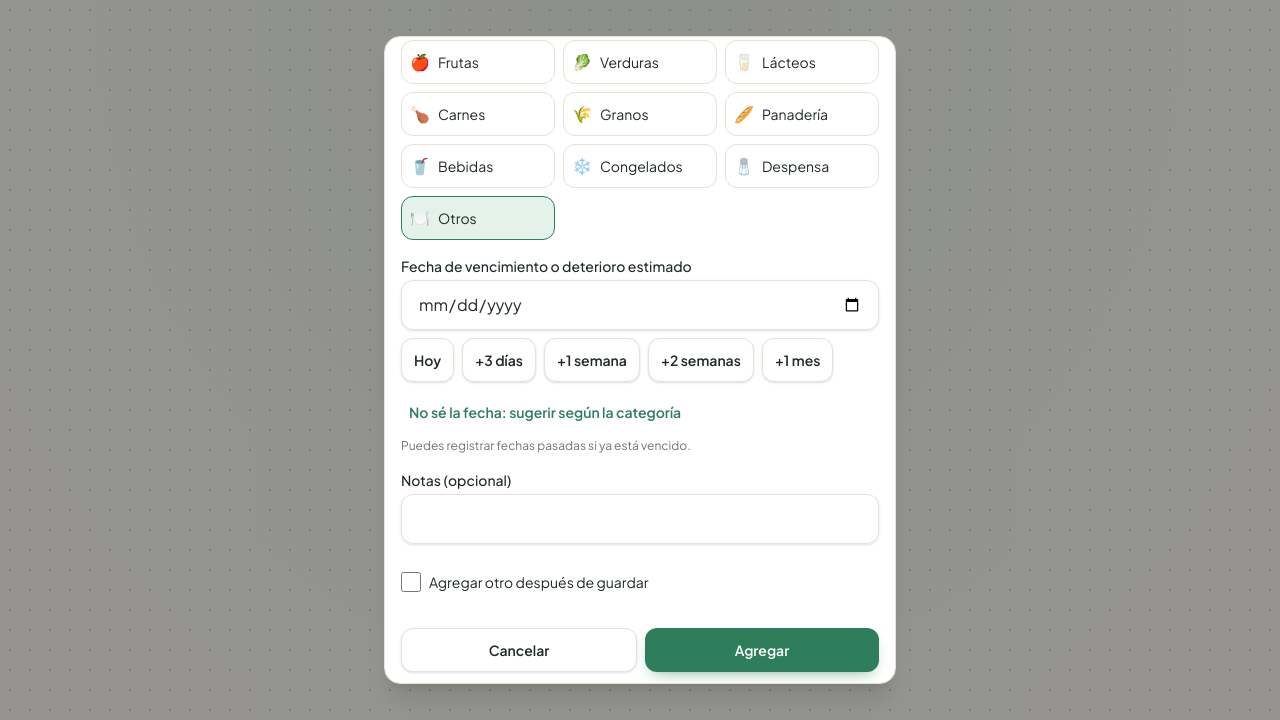
Test case: FoodFormModal (RF-03) › duplicate warning (M3) › warns with how much there is instead of saving
Earlier steps of the test are not shown.
(page scrolled)
Click the button "+1 semana".
click(592, 360)  # box x1=544 y1=338 x2=640 y2=382
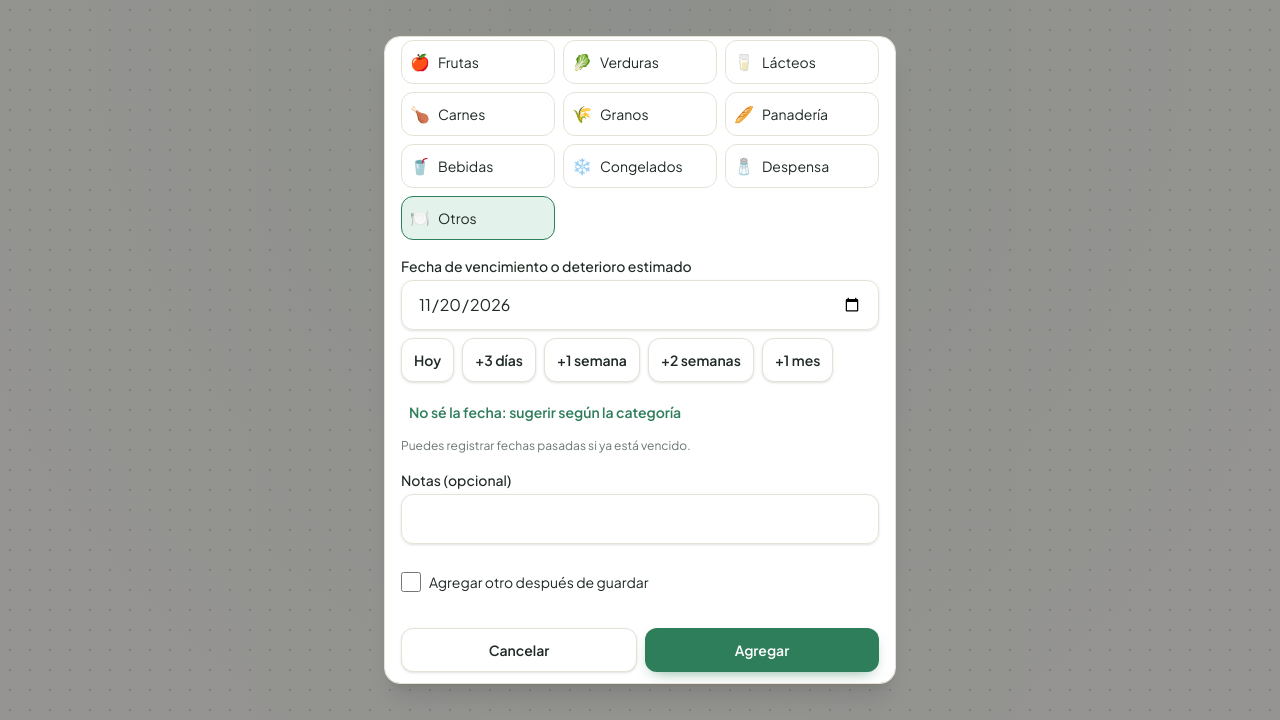
Click the button "Agregar".
click(762, 650)  # box x1=645 y1=628 x2=879 y2=672
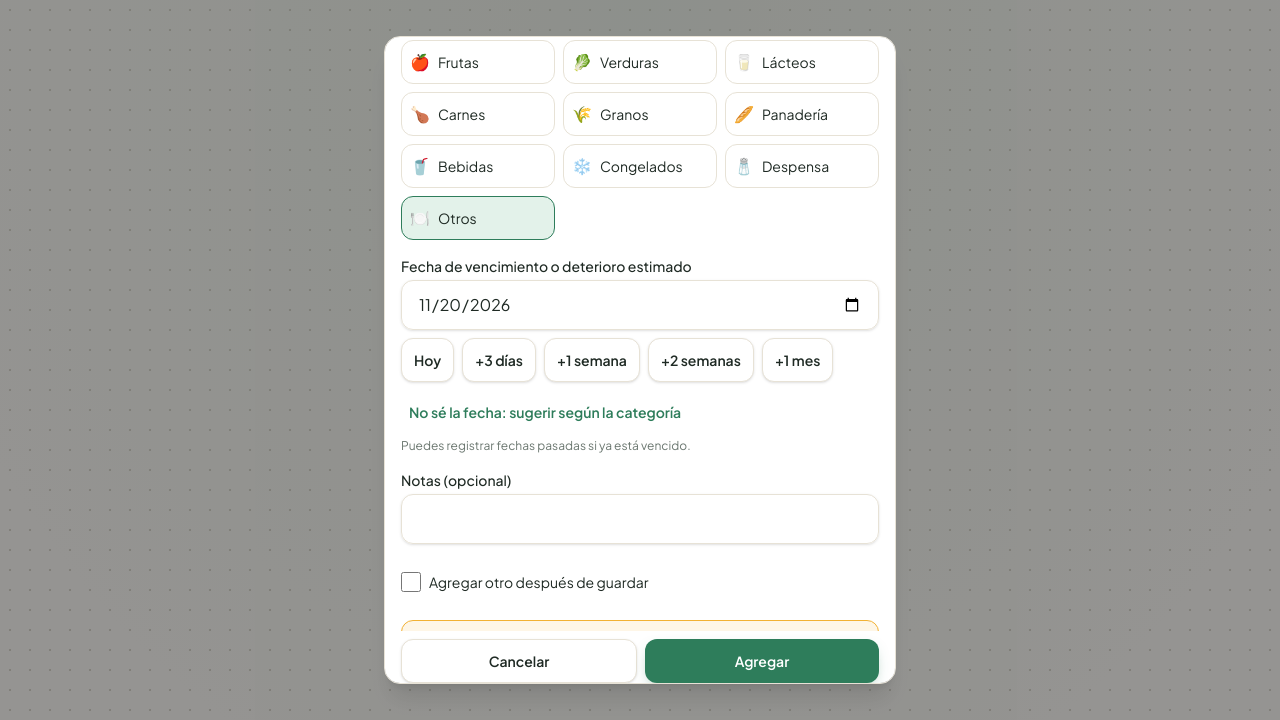
Now the message shows "Ya tienes Leche: 1 l (vence mañana)", box x1=401 y1=620 x2=879 y2=684
